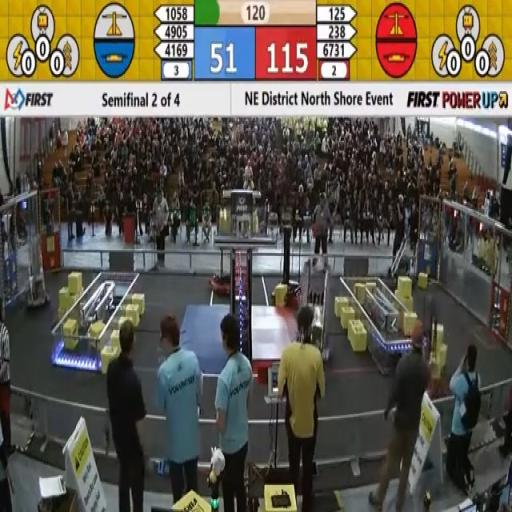robot: (298, 254, 333, 370), (208, 201, 242, 298), (420, 293, 449, 406), (270, 220, 302, 308), (24, 222, 51, 310), (382, 231, 416, 291)
